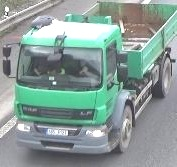truck: (2, 0, 177, 155)
